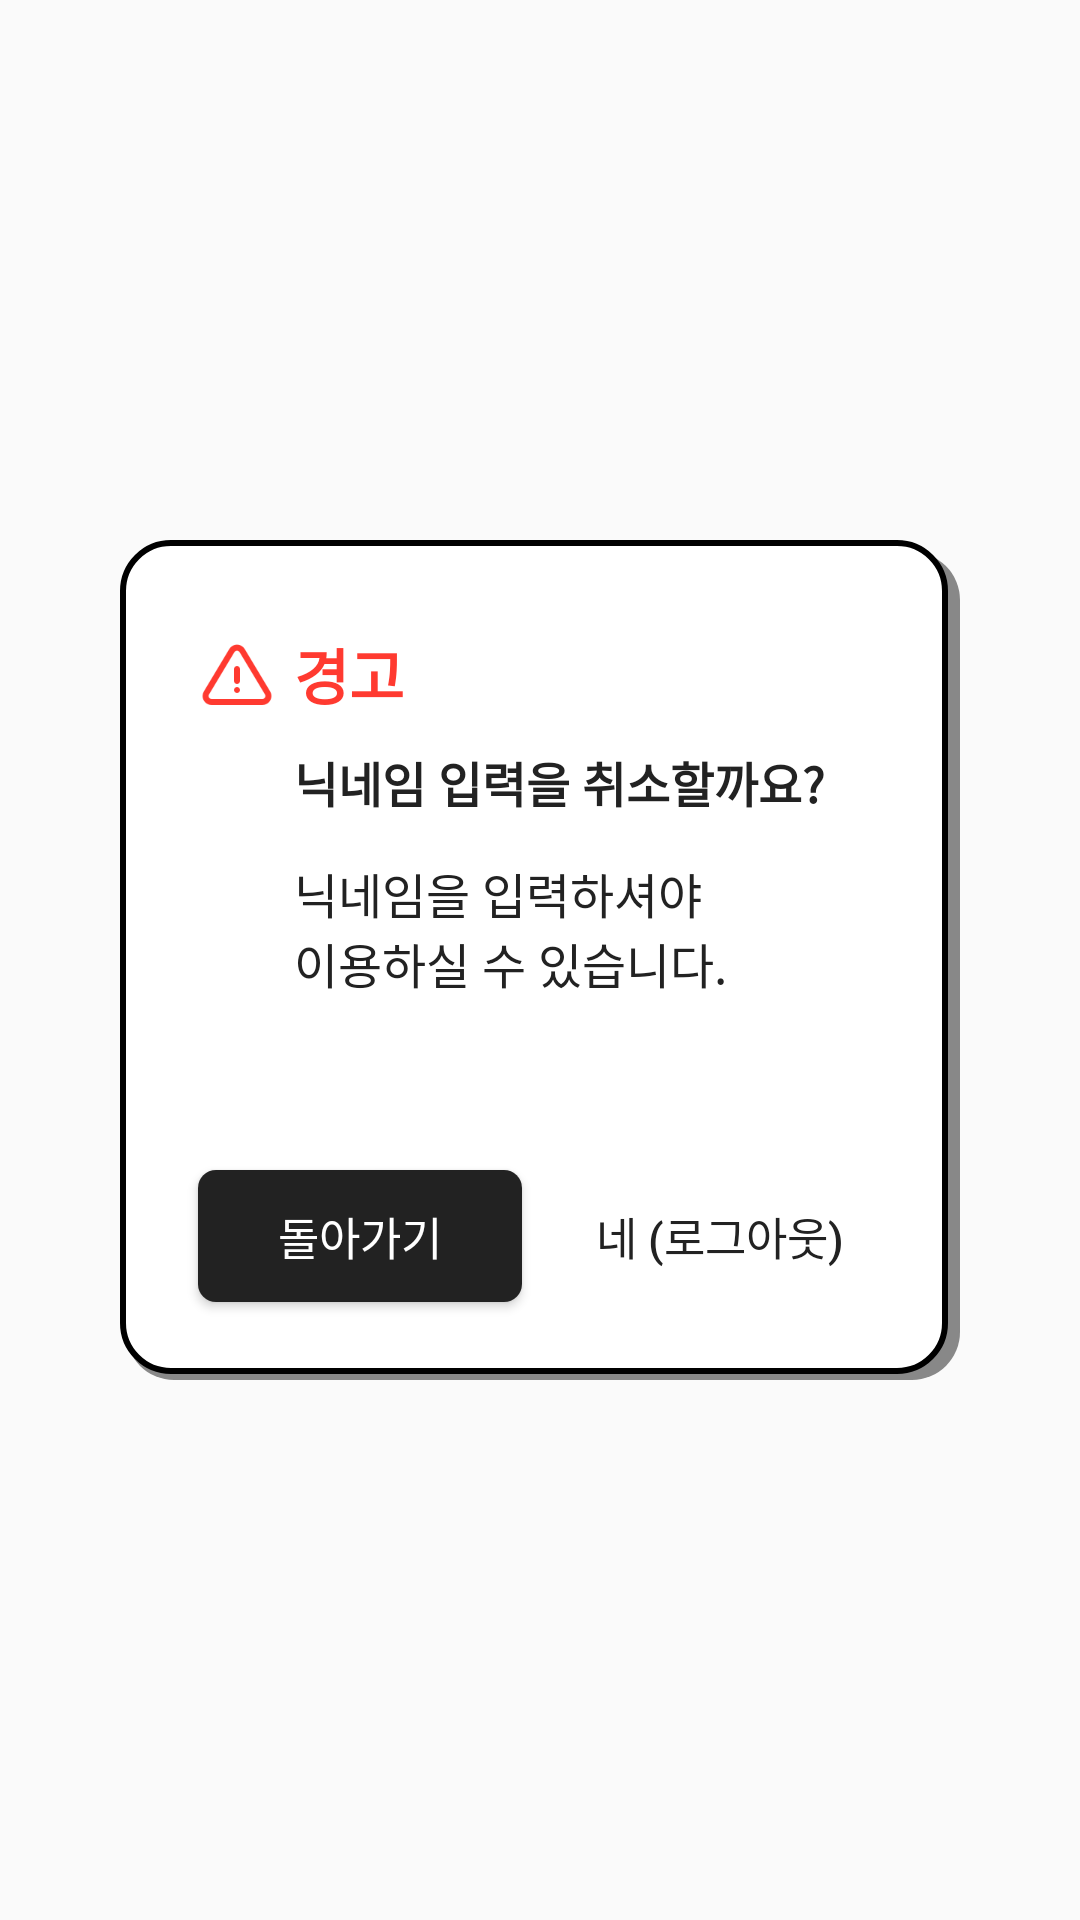

Icons on this 1080 × 1920 Android screen, each with its box as (x1, y1, x2, y2):
popup caution: (202, 644, 272, 705)
